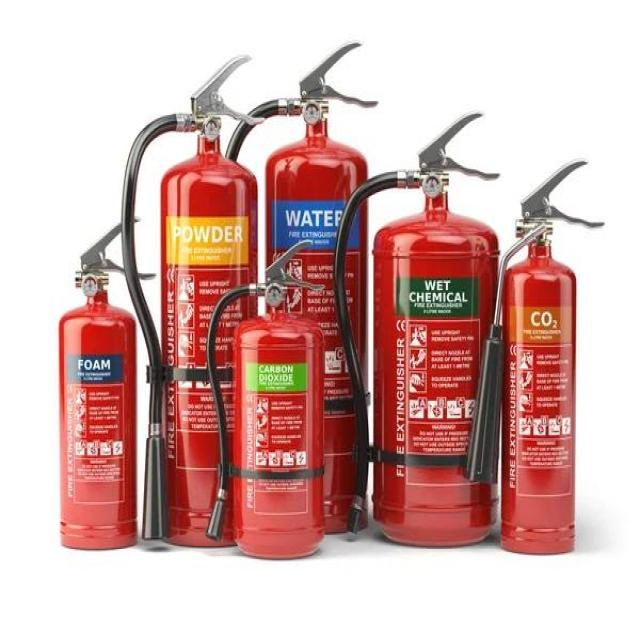fire_extinguisher: (211, 34, 381, 541), (116, 46, 268, 550), (331, 108, 501, 550), (461, 156, 606, 560), (202, 235, 330, 563), (49, 211, 160, 554)
